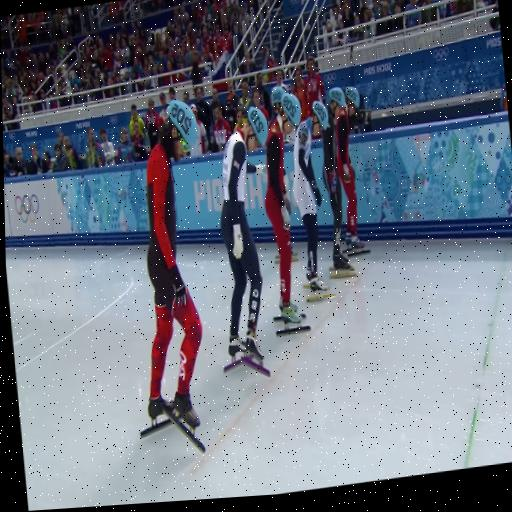Skater: (141, 101, 203, 451), (220, 107, 266, 367), (264, 94, 302, 326), (292, 102, 332, 301), (329, 87, 368, 254), (320, 102, 352, 272), (283, 172, 290, 214)
